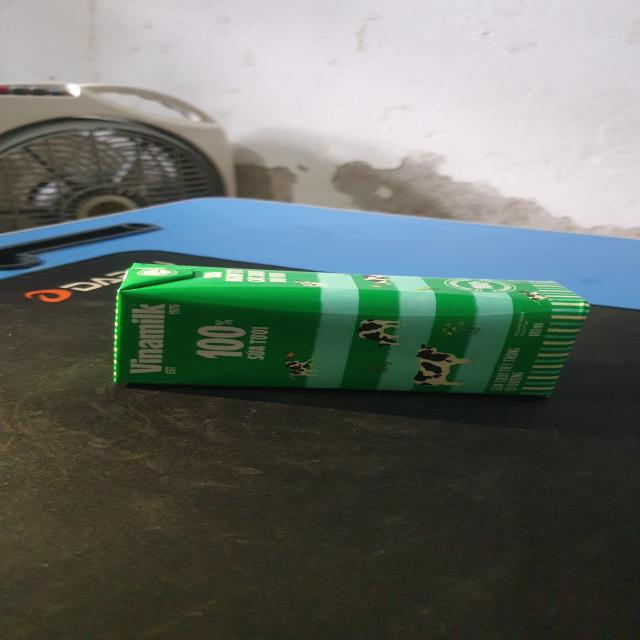Vina: (111, 260, 594, 403)
